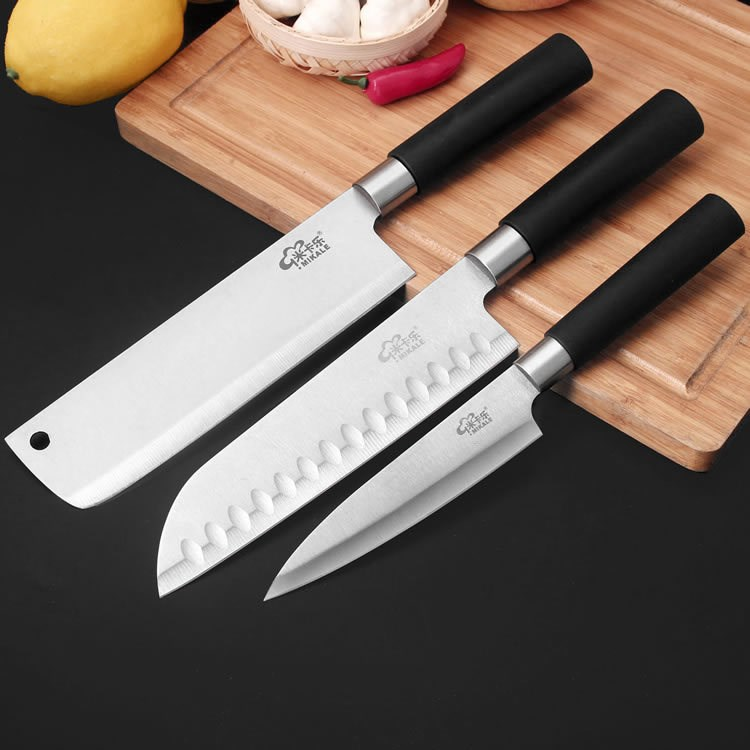knief: (26, 73, 688, 558)
